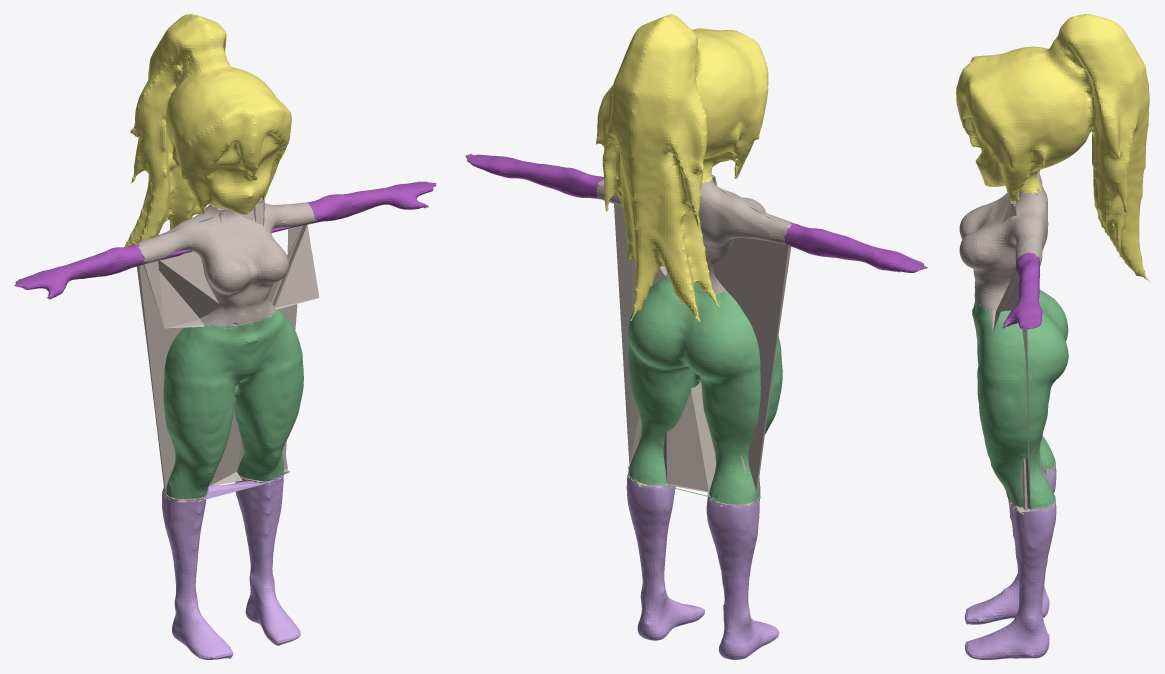
Rendered from character_separated_hybrid.glb.
3 renders of one model, left to right at view 1: azimuth 30°, elevation 25°; view 2: azimuth 150°, elevation 25°; view 3: azimuth 270°, elevation 25°, orthographic. The views are drawn at different scales.
Parts seen in each view (by area): view 1: world; view 2: world; view 3: world.
Part boxes in pixels (bbox=[...]): world: bbox=[14, 14, 436, 659]; world: bbox=[465, 14, 927, 659]; world: bbox=[956, 14, 1150, 659].
Bounding box in the file's own units: 1.46 × 1.96 × 0.5555.
